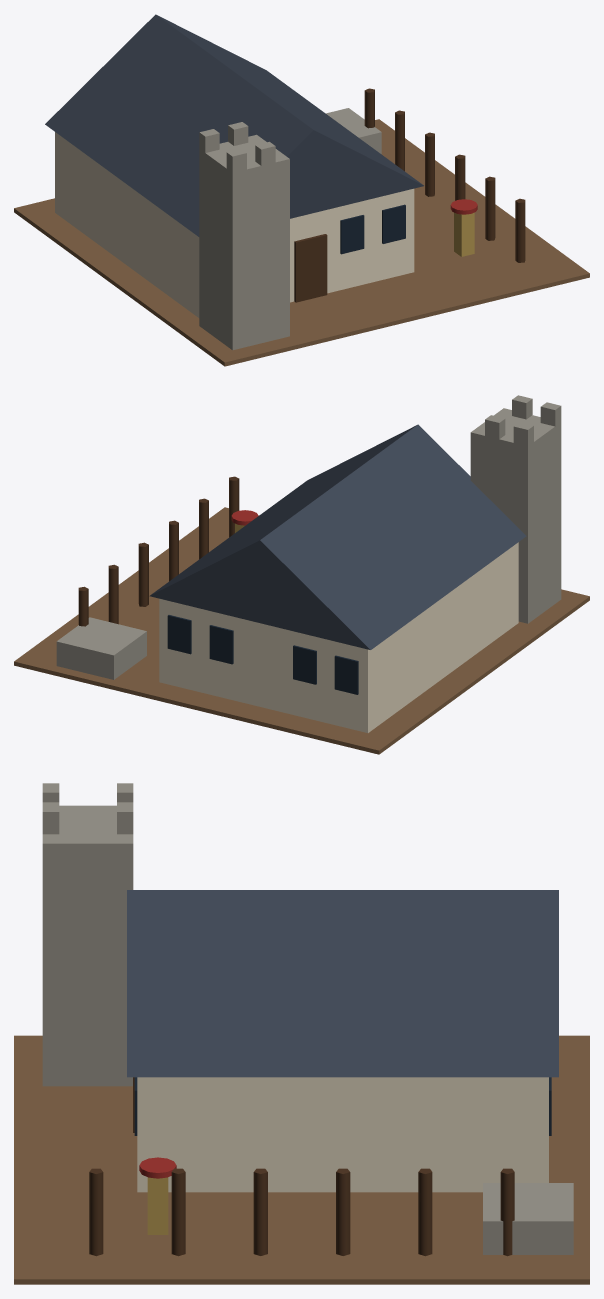
Rendered from bld_special_barracks_a03.glb.
The picture shows the model from 3 angles, top to bottom: view 1: azimuth 30°, elevation 25°; view 2: azimuth 150°, elevation 25°; view 3: azimuth 270°, elevation 25°; orthographic projection. The views are drawn at different scales.
Parts seen in each view (by area): view 1: body; view 2: body; view 3: body.
Boxes of the visible parts, <box> form: body: <box>14,14,589,366</box>; body: <box>14,395,589,754</box>; body: <box>14,783,589,1284</box>.
Size of what is drawn, in the model's own units: 14 by 7.25 by 14.
